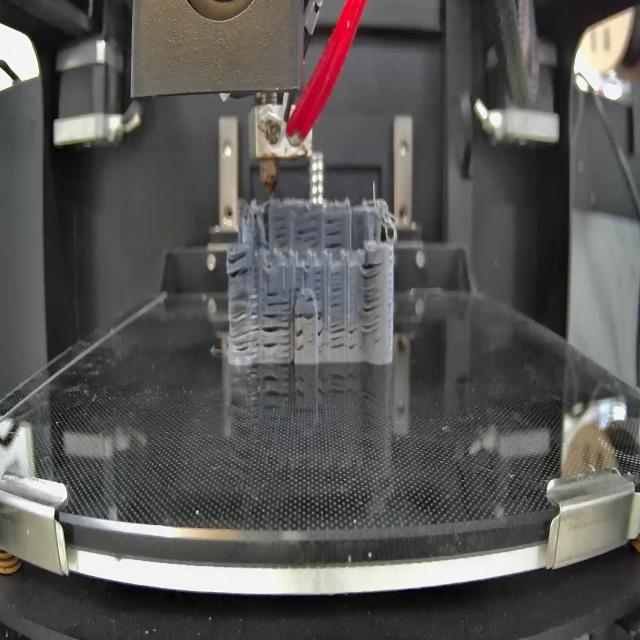cracks: (230, 289, 259, 352), (361, 261, 381, 336), (262, 314, 291, 361), (224, 247, 254, 280), (330, 318, 359, 352), (296, 219, 322, 247), (326, 216, 343, 253), (267, 288, 291, 311), (331, 268, 344, 310), (274, 215, 290, 246), (293, 262, 305, 292), (315, 310, 325, 346), (315, 261, 325, 294), (296, 329, 306, 355), (294, 310, 315, 322), (301, 295, 316, 305)
